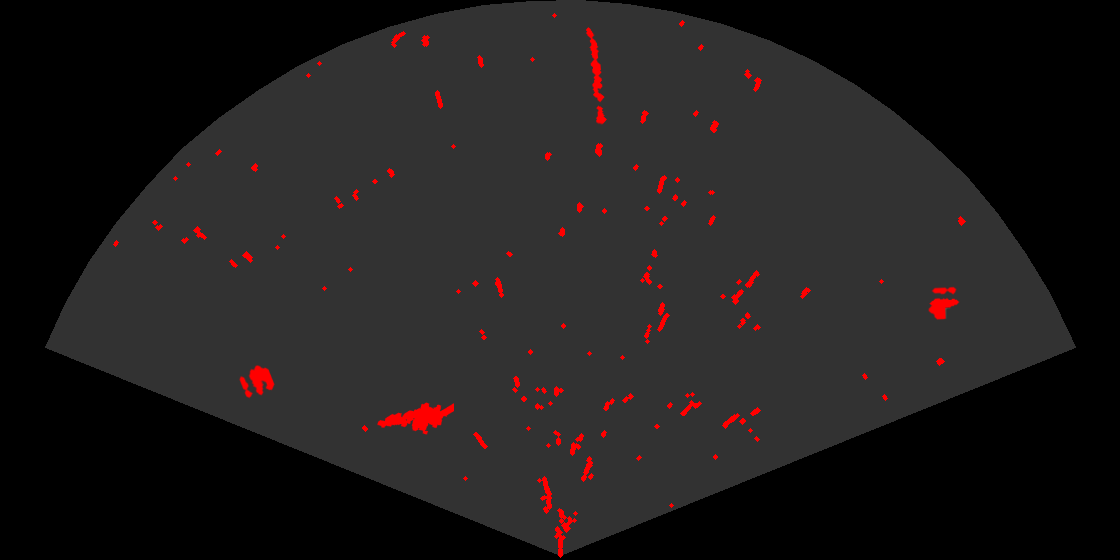ball: (238, 364, 276, 400), (927, 285, 961, 321)
chain: (584, 26, 608, 125)
frogman: (376, 401, 454, 436)
